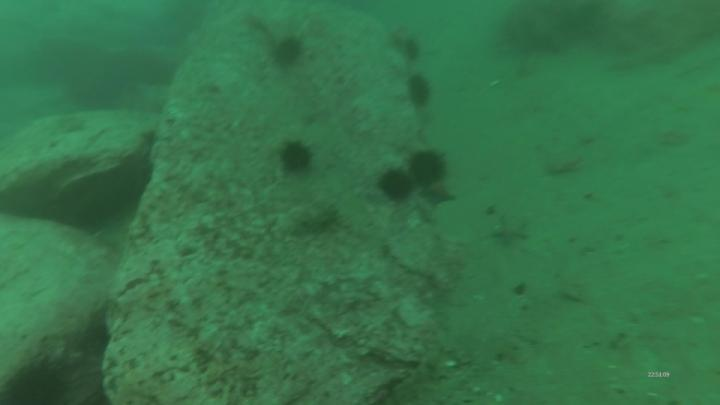echinus: (1, 360, 72, 405), (376, 163, 418, 207), (407, 148, 451, 188), (275, 137, 317, 177), (269, 34, 307, 69), (409, 69, 434, 113), (399, 36, 423, 66)
starfish: (489, 212, 533, 251), (420, 183, 458, 210)
